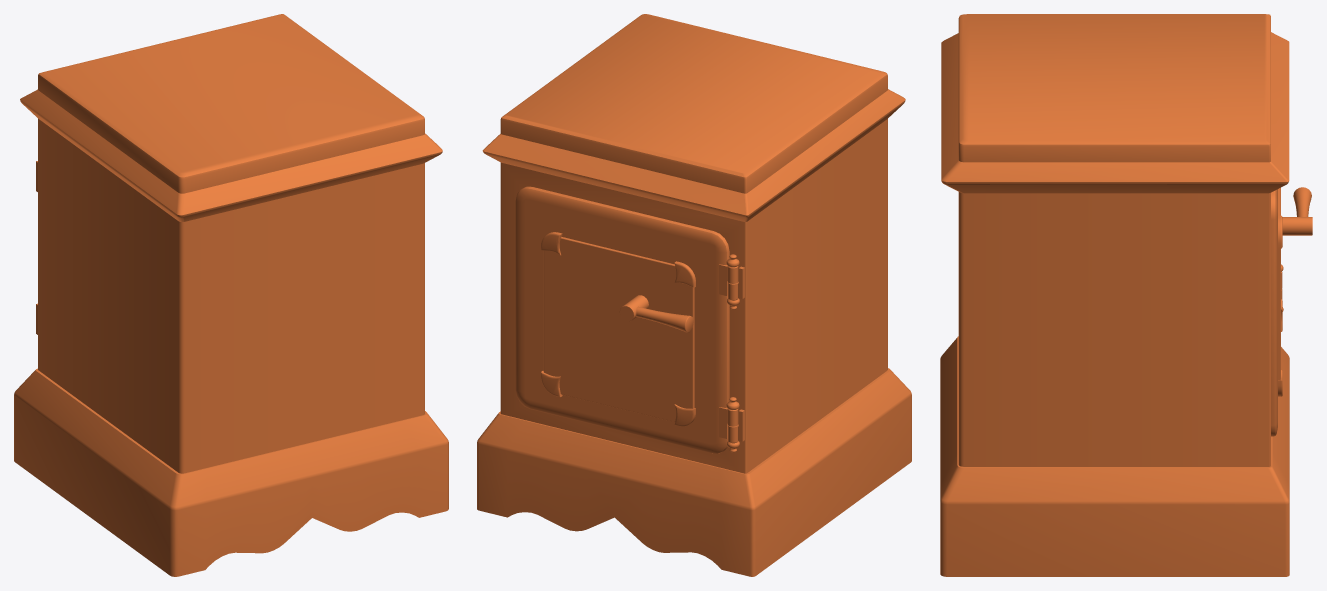
Rendered from Porte_Coffre.fbx.
3 renders of one model, left to right at view 1: azimuth 30°, elevation 25°; view 2: azimuth 150°, elevation 25°; view 3: azimuth 270°, elevation 25°, orthographic. The views are drawn at different scales.
Parts seen in each view (by area): view 1: Cube.027; view 2: Cube.027, Cylinder.005; view 3: Cube.027, Cylinder.005.
Part boxes in pixels (x1=…): Cube.027: x1=14, y1=14, x2=448, y2=576; Cube.027: x1=477, y1=14, x2=911, y2=576; Cylinder.005: x1=515, y1=186, x2=739, y2=453; Cube.027: x1=940, y1=14, x2=1289, y2=576; Cylinder.005: x1=1271, y1=187, x2=1312, y2=436.
Size of the model in its own units: 124 by 167 by 132.
